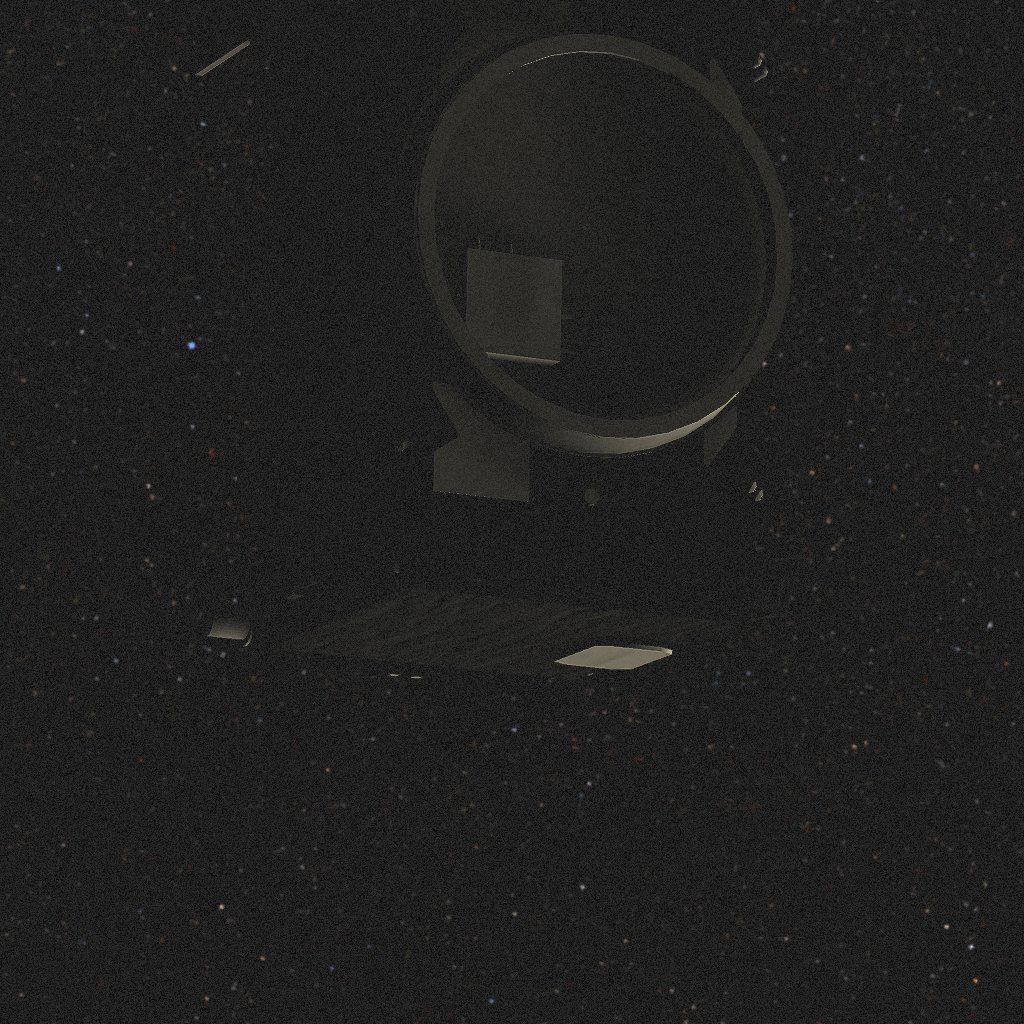proba_3_csc: (195, 0, 801, 683)
